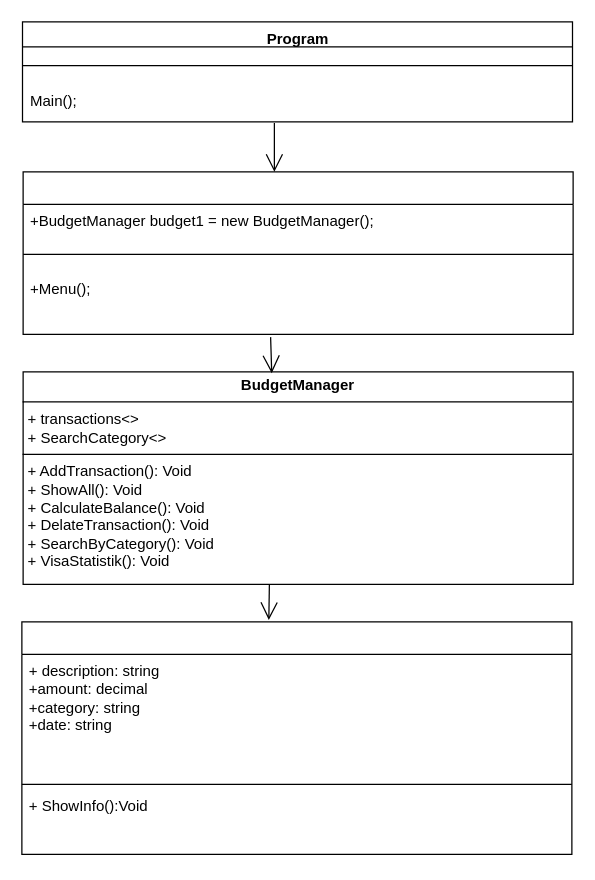
This 595x880 diagram has some shape labels left out. Here are the shapes that lost their labels. From the top down, the box of each, then its label:
(22, 171, 573, 334): MenuHelper
(21, 621, 572, 854): Transaction
